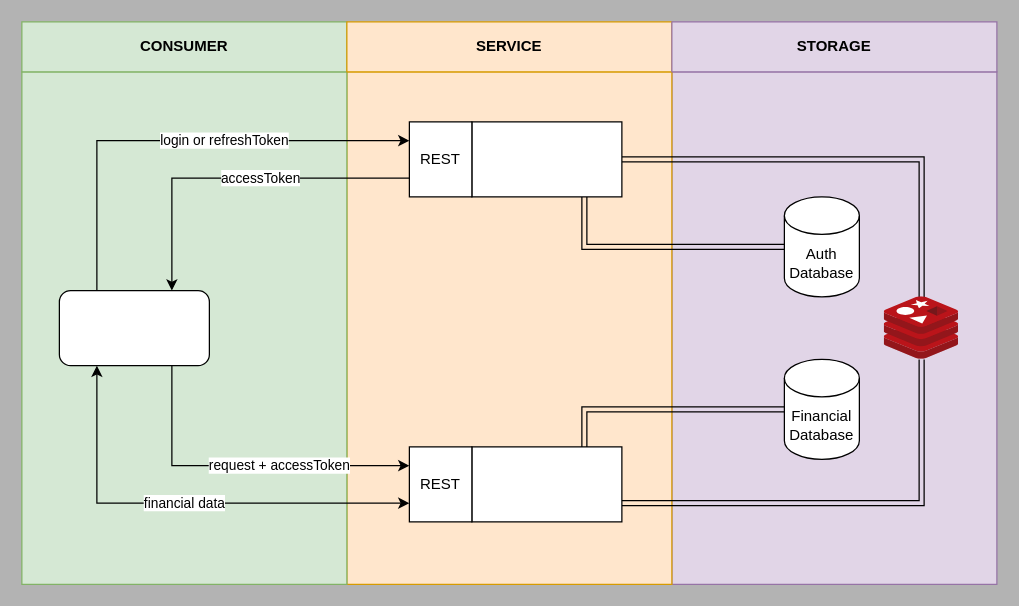
Image size: 1019x606. Some labels were removed from this diagram. The shapes that lost their labels are listed below. From the top down, each one's centre as x and y in pixels, then its label:
point (546, 159): Auth Service
point (133, 327): API Consumer
point (546, 484): Financial Service
